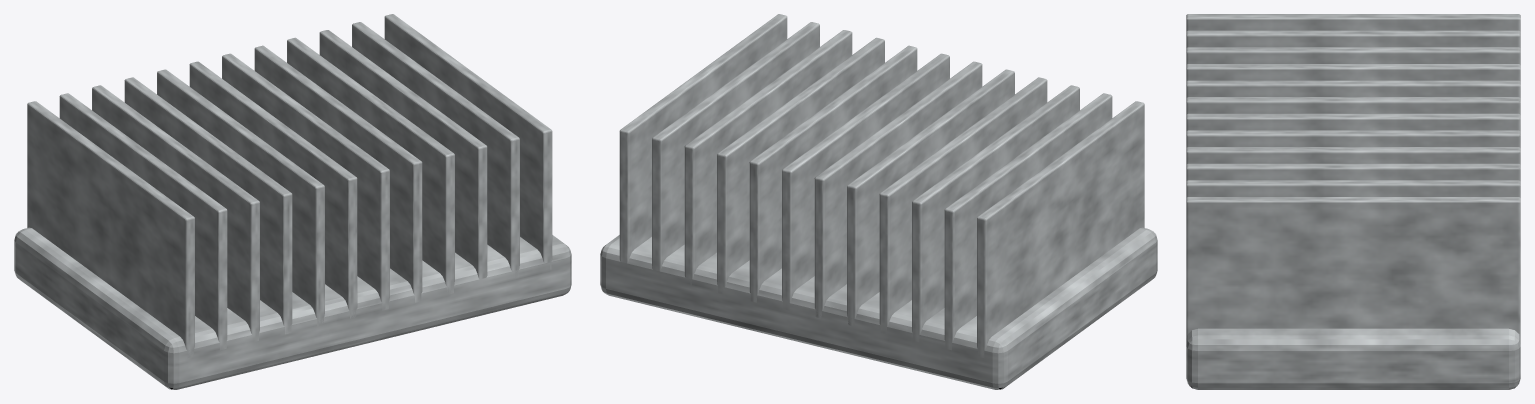
The model's file is GR_AluminumHeatsink_04.glb.
3 renders of one model, left to right at view 1: azimuth 30°, elevation 25°; view 2: azimuth 150°, elevation 25°; view 3: azimuth 270°, elevation 25°, orthographic. The views are drawn at different scales.
Parts seen in each view (by area): view 1: Static; view 2: Static; view 3: Static.
Boxes of the visible parts, x1,y1,x2,y2 form: Static: (14, 14, 571, 389); Static: (600, 14, 1157, 389); Static: (1186, 14, 1520, 389).
Bounding box in the file's own units: 0.25 × 0.1015 × 0.17.
1 material, 1 textured.
